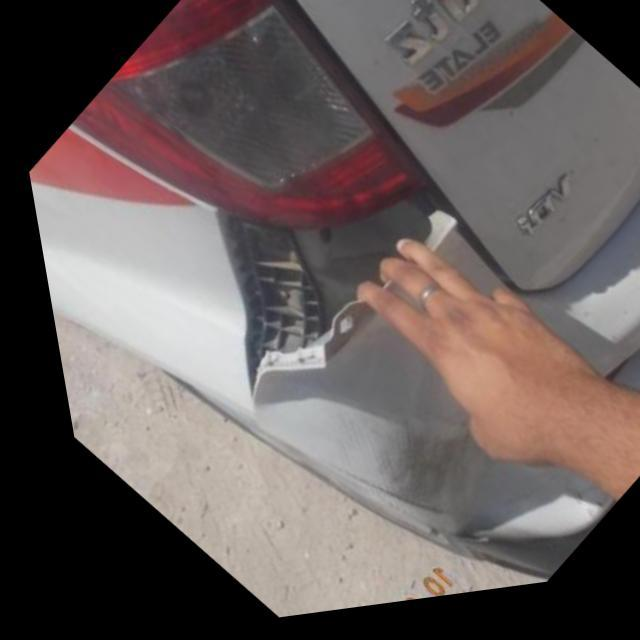crack: (207, 200, 445, 414)
rub: (314, 427, 532, 552)
